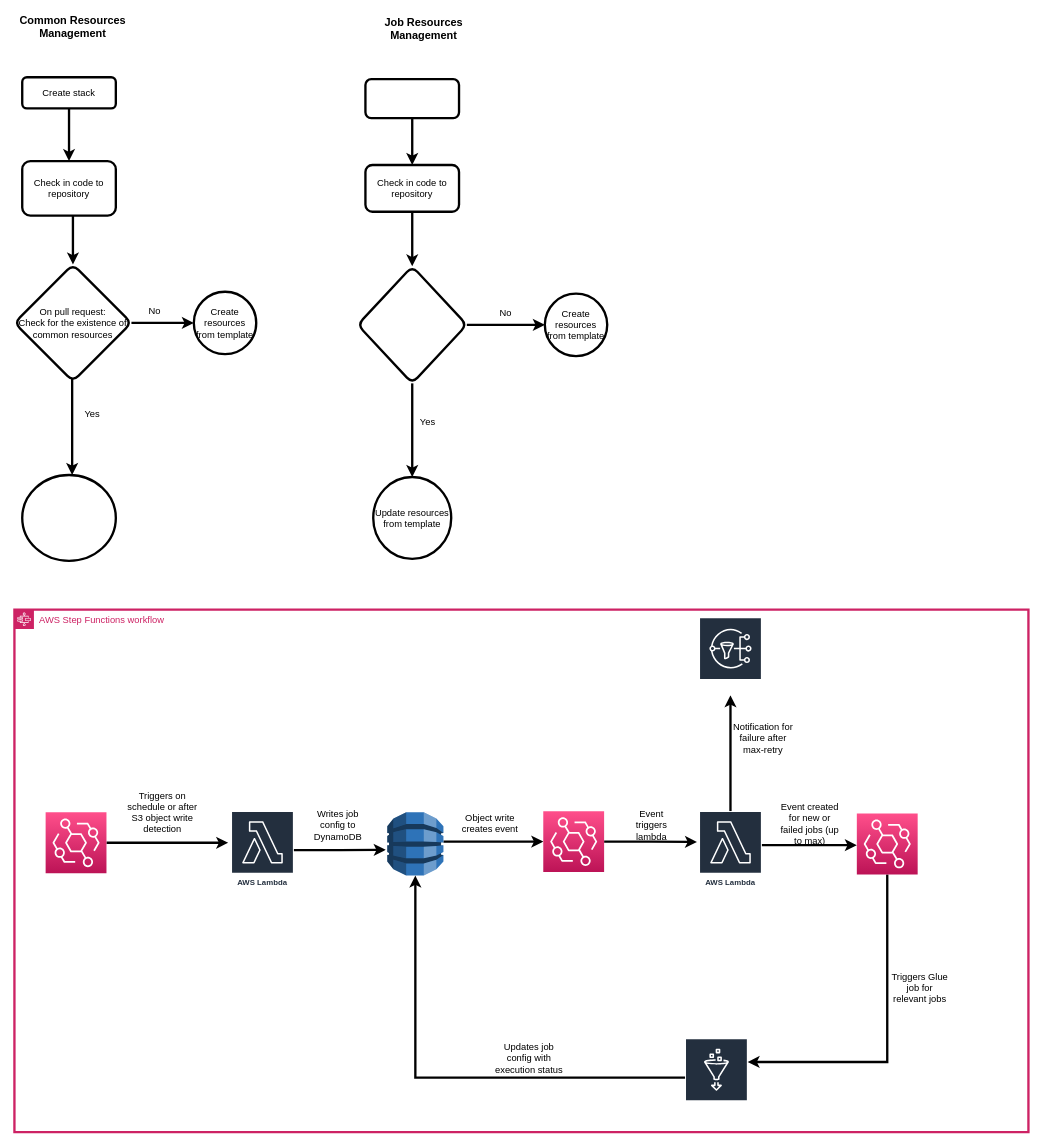
This 1043x1147 diagram has some shape labels left out. Each missing label, with the centre of its shape:
"Amazon SNS" goes at point (730, 656).
"AWS Glue" goes at point (716, 1077).
"Create a single idempotent stack per job" goes at point (412, 98).
"On pull request: Check for the existence of job workflow" goes at point (412, 324).
"Take snapshot of resources and update resources from template" goes at point (69, 517).
